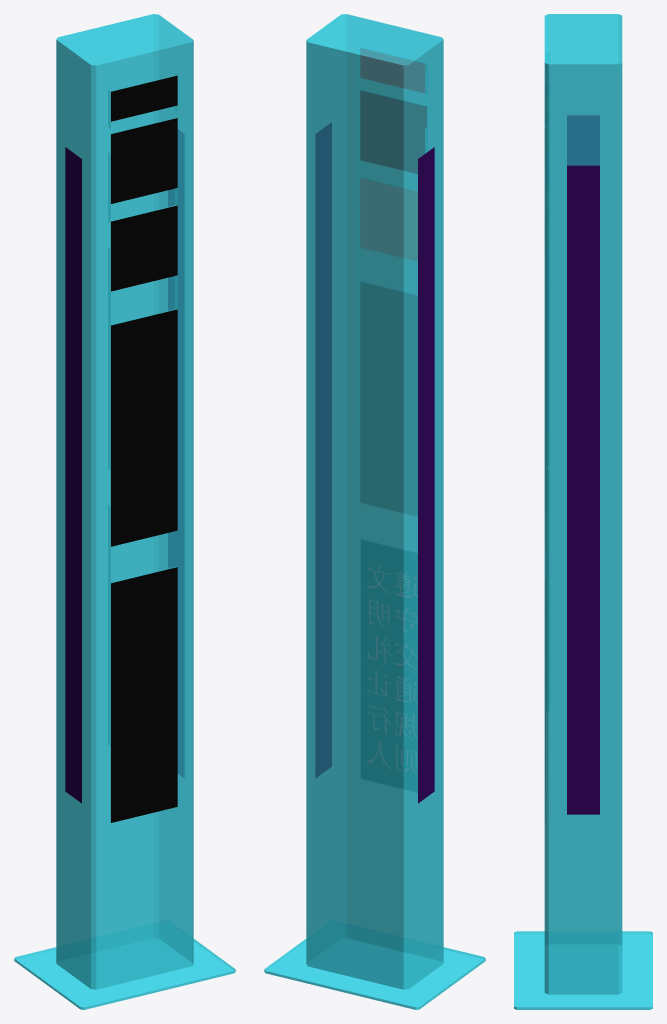
File: 红绿灯.obj
3 renders of one model, left to right at view 1: azimuth 30°, elevation 25°; view 2: azimuth 150°, elevation 25°; view 3: azimuth 270°, elevation 25°, orthographic.
Visible parts, largest first — view 1: Mesh50 ___9_1 Model, Mesh7 Group2 ___9_1 Model, Mesh6 Group2 ___9_1 Model, Mesh9 Group2 ___9_1 Model, Mesh8 Group2 ___9_1 Model, Mesh10 Group2 ___9_1 Model; view 2: Mesh50 ___9_1 Model, Mesh1 Group1 ___9_1 Model, Mesh2 Group1 ___9_1 Model, Mesh3 Group1 ___9_1 Model, Mesh4 Group1 ___9_1 Model, Mesh5 Group1 ___9_1 Model; view 3: Mesh50 ___9_1 Model.
Part boxes in pixels (x1,y1,x2,y2): Mesh50 ___9_1 Model: [14, 14, 235, 1009]; Mesh7 Group2 ___9_1 Model: [111, 567, 177, 822]; Mesh6 Group2 ___9_1 Model: [111, 309, 177, 546]; Mesh9 Group2 ___9_1 Model: [111, 205, 177, 291]; Mesh8 Group2 ___9_1 Model: [111, 118, 177, 203]; Mesh10 Group2 ___9_1 Model: [111, 75, 177, 121]; Mesh50 ___9_1 Model: [264, 14, 485, 1009]; Mesh1 Group1 ___9_1 Model: [360, 282, 417, 516]; Mesh2 Group1 ___9_1 Model: [361, 540, 417, 792]; Mesh3 Group1 ___9_1 Model: [360, 91, 426, 173]; Mesh4 Group1 ___9_1 Model: [360, 178, 417, 261]; Mesh5 Group1 ___9_1 Model: [360, 48, 426, 92]; Mesh50 ___9_1 Model: [514, 14, 652, 1009].
Size of the model in its own units: 65 by 371 by 50.
